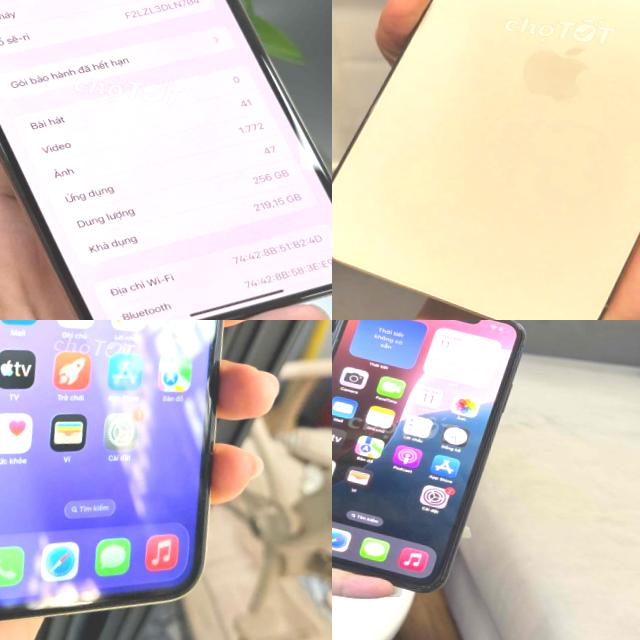gen_11: (0, 0, 332, 320), (0, 320, 279, 640), (332, 320, 525, 592)
gen_12_13: (332, 0, 640, 320)
